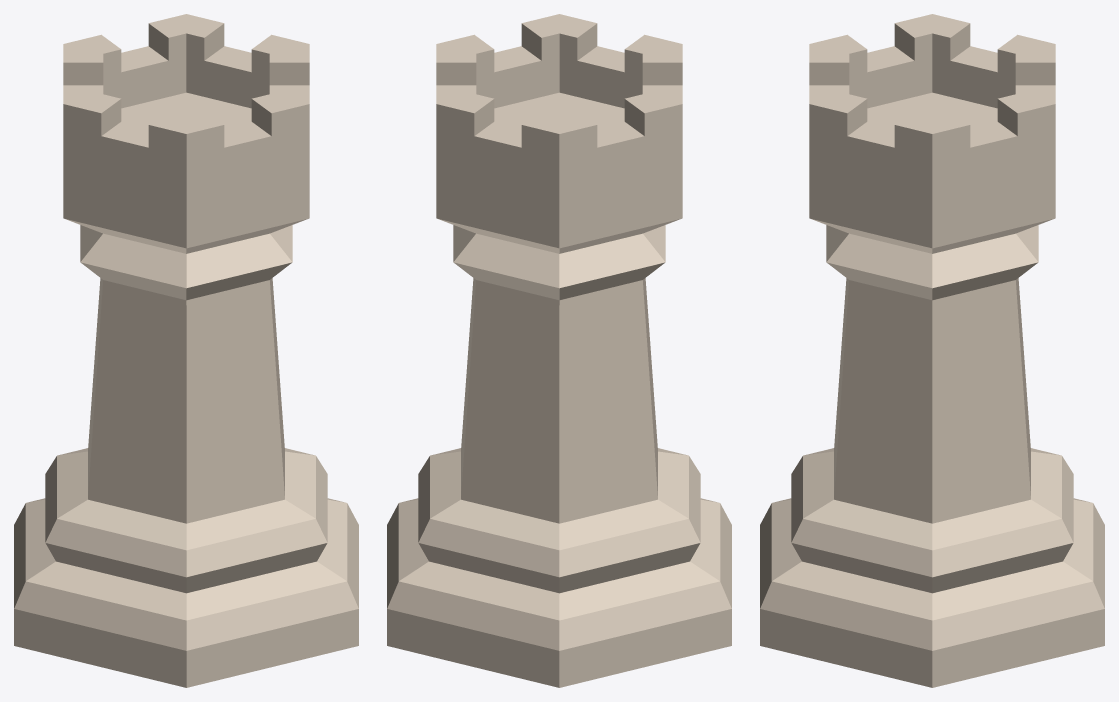
The model's file is RookLight.fbx.
The picture shows the model from 3 angles, left to right: view 1: azimuth 30°, elevation 25°; view 2: azimuth 150°, elevation 25°; view 3: azimuth 270°, elevation 25°; orthographic projection.
Parts seen in each view (by area): view 1: RookLight; view 2: RookLight; view 3: RookLight.
Part boxes in pixels (x1,y1,x2,y2): RookLight: (14, 14, 358, 687); RookLight: (387, 14, 731, 687); RookLight: (760, 14, 1104, 687).
Size of the model in its own units: 89.57 by 132 by 77.57.
